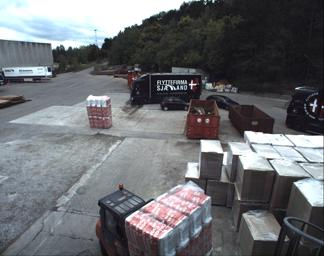rockwool_batts: (123, 183, 211, 255), (85, 92, 112, 128)
